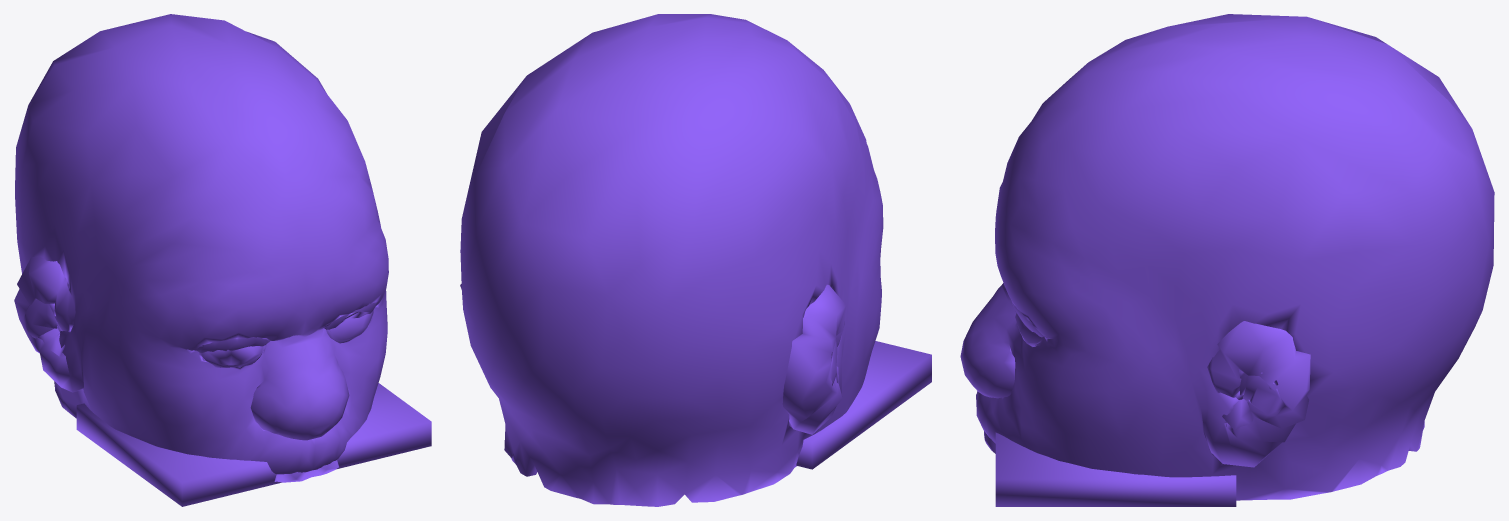
The model's file is cap-violet-v1.glb.
3 views of the same model, side by side, from view 1: azimuth 30°, elevation 25°; view 2: azimuth 150°, elevation 25°; view 3: azimuth 270°, elevation 25° (orthographic). The views are drawn at different scales.
Visible parts, largest first — view 1: cap_dome, cap_visor; view 2: cap_dome, cap_visor; view 3: cap_dome, cap_visor.
Part boxes in pixels (x1=…): cap_dome: x1=14, y1=14, x2=388, y2=482; cap_visor: x1=76, y1=383, x2=431, y2=506; cap_dome: x1=460, y1=14, x2=883, y2=506; cap_visor: x1=796, y1=341, x2=931, y2=469; cap_dome: x1=960, y1=14, x2=1494, y2=500; cap_visor: x1=995, y1=432, x2=1236, y2=506.
Size of the model in its own units: 0.1937 by 0.2052 by 0.2439.
